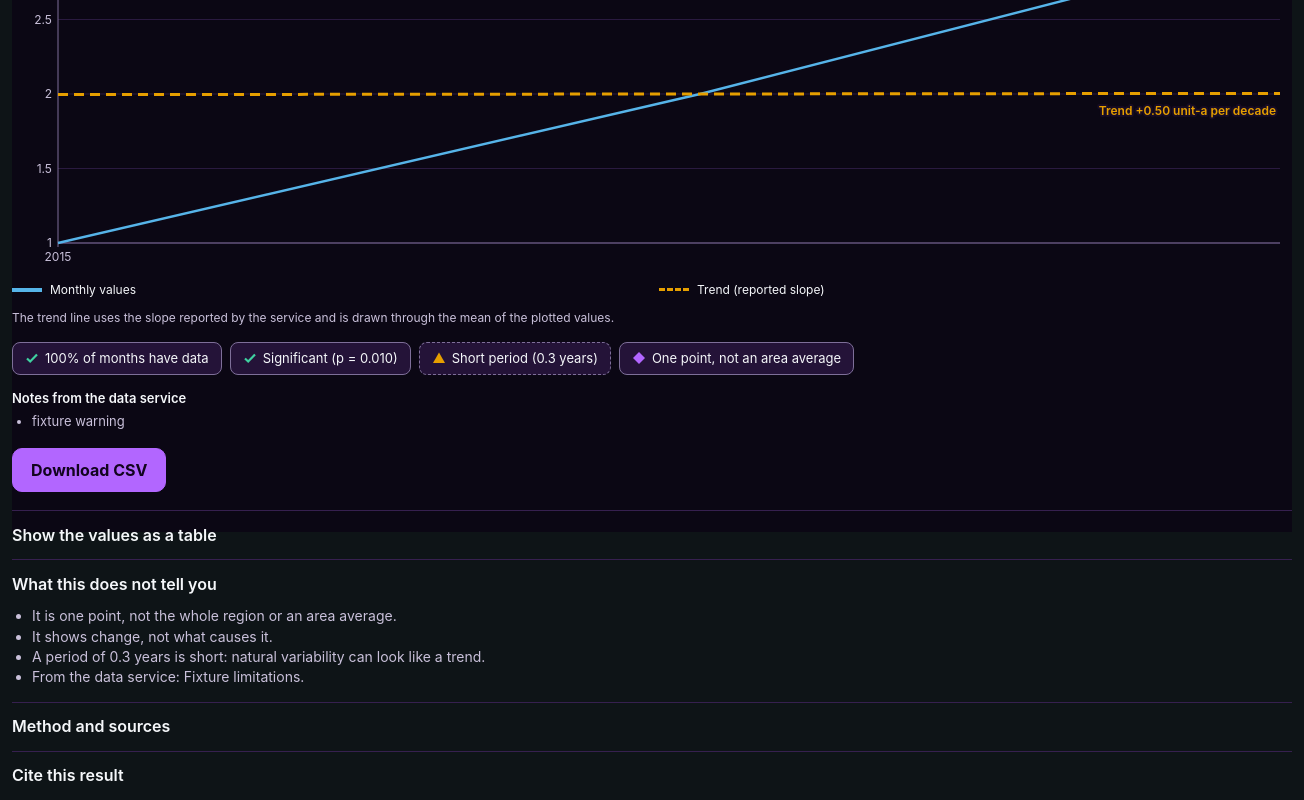
Test case: ResultPanel with a result › copies the citation
(page scrolled)
Step 1. Click the heading "Cite this result" → (68, 775), box [12, 765, 124, 785]
(page scrolled)
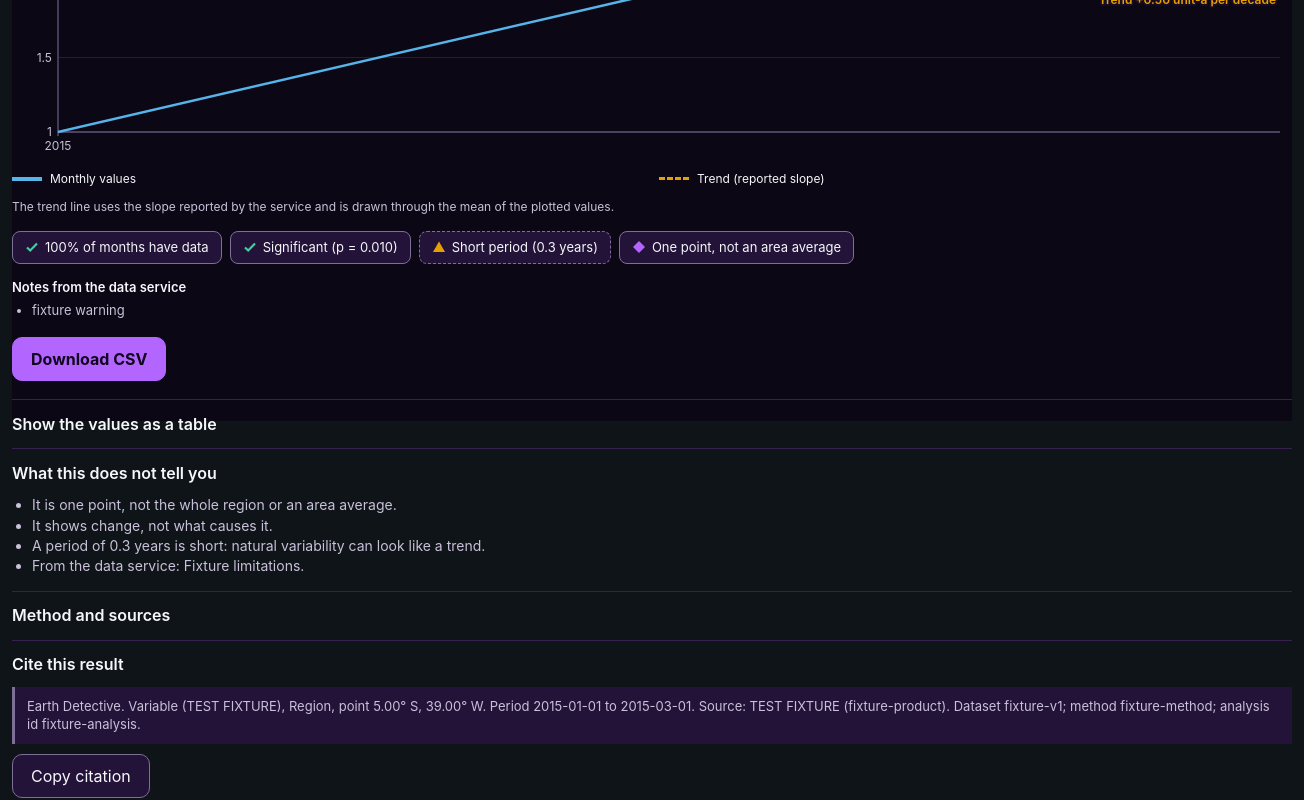
Step 2. Click the button "Copy citation" → (81, 776), box [12, 754, 150, 798]
(page scrolled)
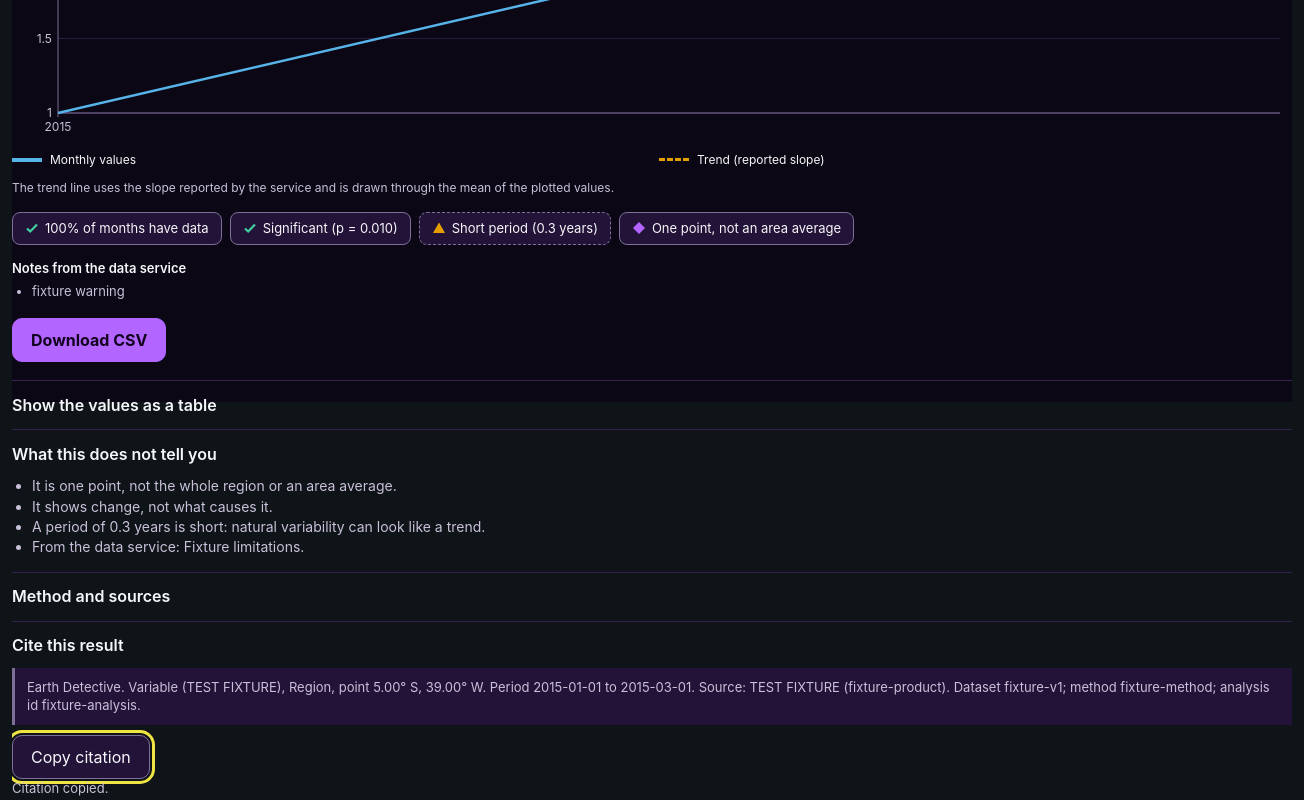
Now the text "Citation copied." is shown, box [12, 780, 108, 796]
